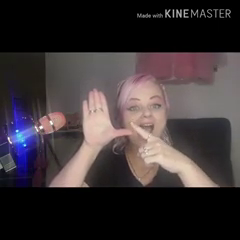A: (78, 86, 183, 177)
